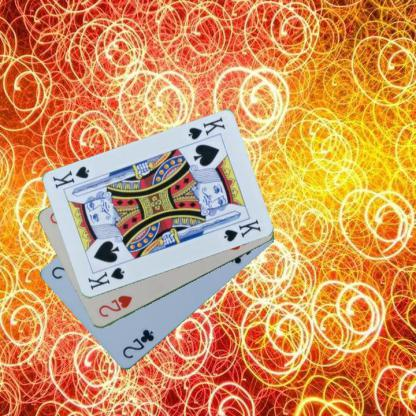2c: (119, 327, 156, 361)
2h: (96, 293, 133, 319)
Ks: (185, 115, 226, 142), (84, 265, 126, 291)
